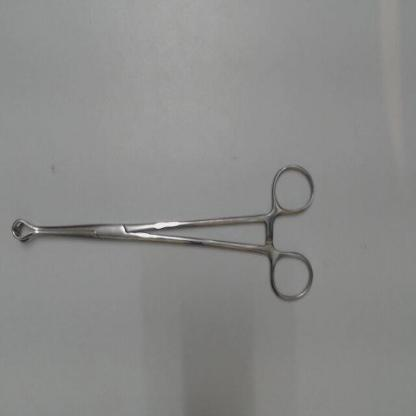8 Babcock Tissue Forceps: (8, 155, 318, 310)
